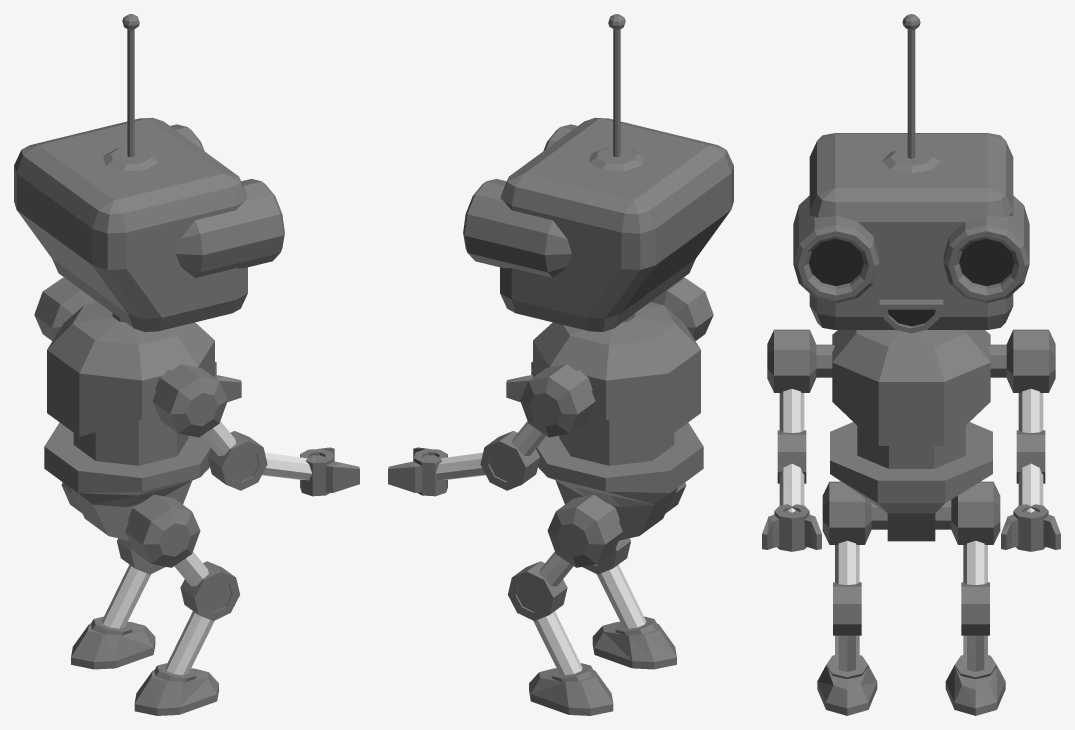
File: 9A6cuitiB_4.glb
3 views of the same model, side by side, from view 1: azimuth 30°, elevation 25°; view 2: azimuth 150°, elevation 25°; view 3: azimuth 270°, elevation 25° (orthographic).
Parts seen in each view (by area): view 1: Robot; view 2: Robot; view 3: Robot.
Boxes of the visible parts, x1,y1,x2,y2 form: Robot: (14, 14, 359, 715); Robot: (388, 14, 733, 715); Robot: (762, 14, 1060, 715).
Size of the model in its own units: 0.3672 by 1 by 0.4026.
Materials: 1 (1 with a texture image).
